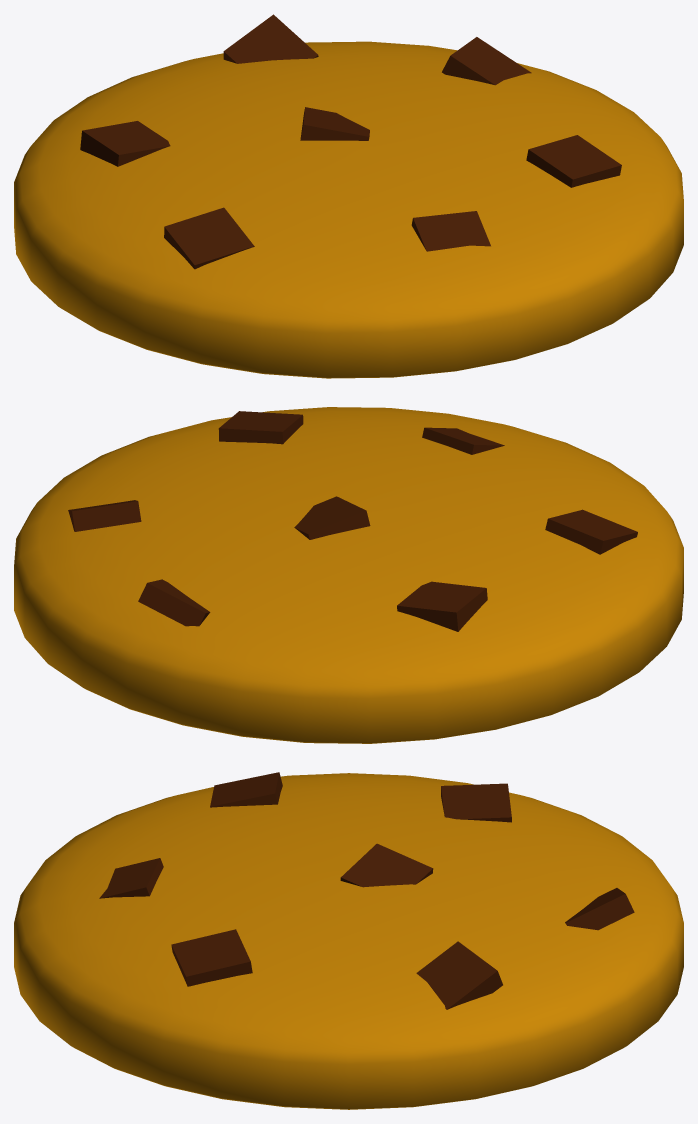
File: Cookie.fbx
The picture shows the model from 3 angles, top to bottom: view 1: azimuth 30°, elevation 25°; view 2: azimuth 150°, elevation 25°; view 3: azimuth 270°, elevation 25°; orthographic projection.
Parts seen in each view (by area): view 1: Cookie, Chocolate chip 1, Chocolate chip 2, Chocolate chip 6, Chocolate chip 4, Chocolate chip 7, Chocolate chip 5, Chocolate chip 3; view 2: Cookie, Chocolate chip 6, Chocolate chip 1, Chocolate chip 2, Chocolate chip 3, Chocolate chip 4, Chocolate chip 7, Chocolate chip 5; view 3: Cookie, Chocolate chip 7, Chocolate chip 2, Chocolate chip 3, Chocolate chip 6, Chocolate chip 1, Chocolate chip 5, Chocolate chip 4.
Part boxes in pixels (x1,y1,x2,y2): Cookie: [14, 41, 683, 378]; Chocolate chip 1: [164, 207, 254, 269]; Chocolate chip 2: [526, 135, 621, 187]; Chocolate chip 6: [80, 121, 170, 166]; Chocolate chip 4: [223, 14, 318, 63]; Chocolate chip 7: [442, 37, 531, 85]; Chocolate chip 5: [411, 211, 490, 251]; Chocolate chip 3: [300, 107, 369, 140]; Cookie: [14, 407, 683, 743]; Chocolate chip 6: [397, 581, 487, 631]; Chocolate chip 1: [545, 509, 637, 554]; Chocolate chip 2: [218, 411, 303, 444]; Chocolate chip 3: [294, 496, 370, 539]; Chocolate chip 4: [138, 579, 210, 626]; Chocolate chip 7: [68, 500, 141, 531]; Chocolate chip 5: [422, 427, 504, 454]; Cookie: [14, 773, 683, 1109]; Chocolate chip 7: [416, 941, 502, 1009]; Chocolate chip 2: [171, 929, 252, 986]; Chocolate chip 3: [340, 843, 433, 887]; Chocolate chip 6: [441, 783, 511, 822]; Chocolate chip 1: [210, 772, 282, 807]; Chocolate chip 5: [99, 858, 163, 898]; Chocolate chip 4: [565, 888, 634, 930].
Bounding box in the file's own units: 7.5 × 7.5 × 1.43.
